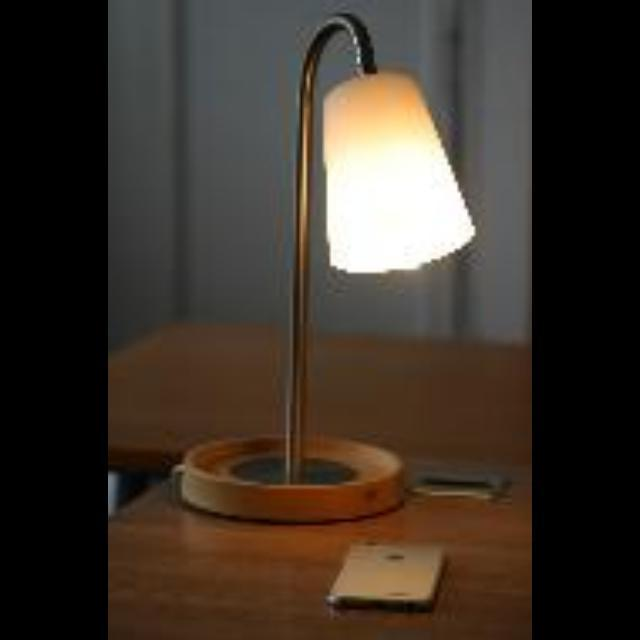Phone: (331, 541, 452, 611)
